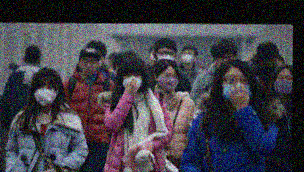with_mask: (220, 71, 254, 104), (31, 80, 58, 107), (119, 71, 145, 93), (155, 71, 178, 91), (271, 73, 291, 95), (258, 58, 278, 79), (154, 48, 176, 63), (179, 51, 195, 65)
without_mask: (77, 56, 99, 75), (213, 52, 235, 70)
